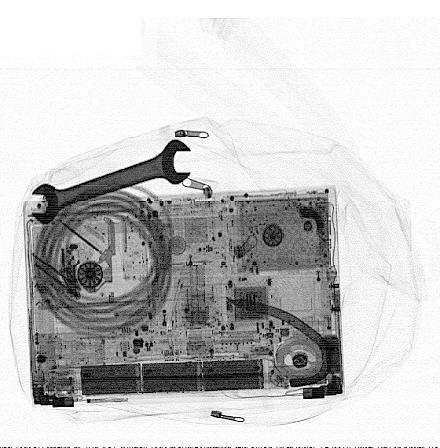Wrench: (29, 135, 193, 227)
